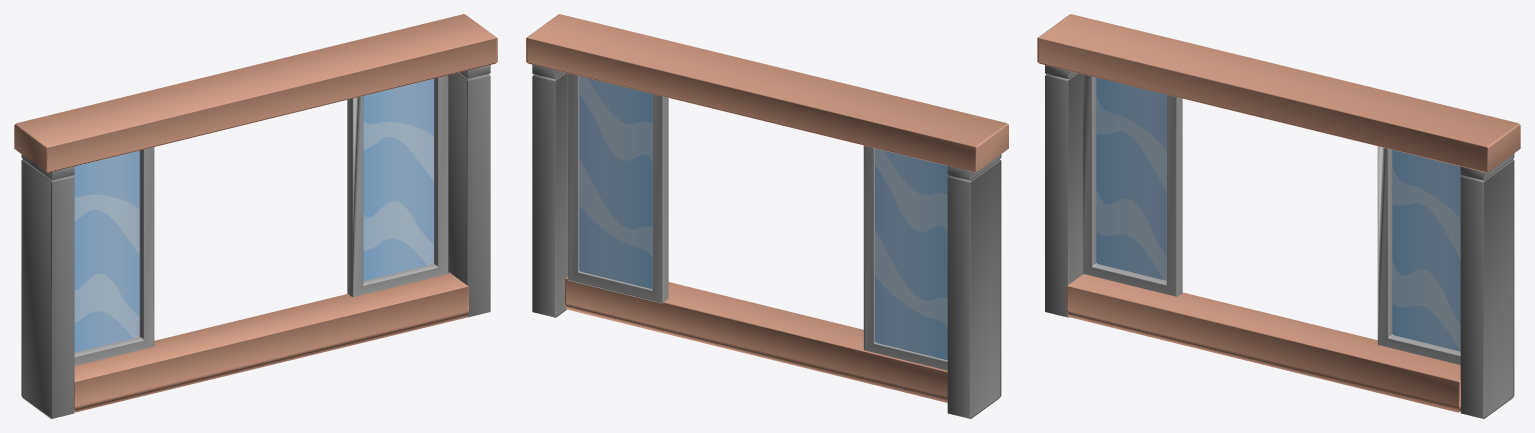
Rendered from Entrance_Gate.fbx.
3 views of the same model, side by side, from view 1: azimuth 30°, elevation 25°; view 2: azimuth 150°, elevation 25°; view 3: azimuth 330°, elevation 25° (orthographic).
Parts seen in each view (by area): view 1: Entrance_Gate.001; view 2: Entrance_Gate.001; view 3: Entrance_Gate.001.
Part boxes in pixels (x1,y1,x2,y2): Entrance_Gate.001: [14, 14, 497, 418]; Entrance_Gate.001: [526, 14, 1008, 418]; Entrance_Gate.001: [1037, 14, 1520, 418].
Bounding box in the file's own units: 717 × 418 × 88.35.
